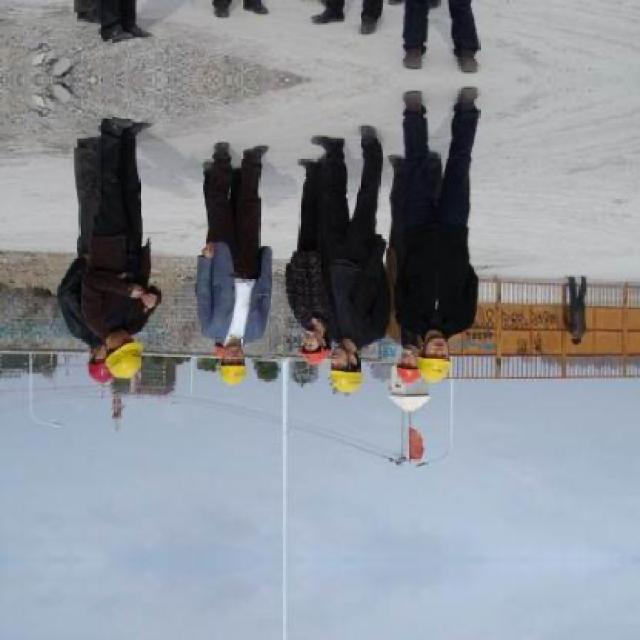con casco: (80, 354, 165, 428), (210, 331, 259, 407)
